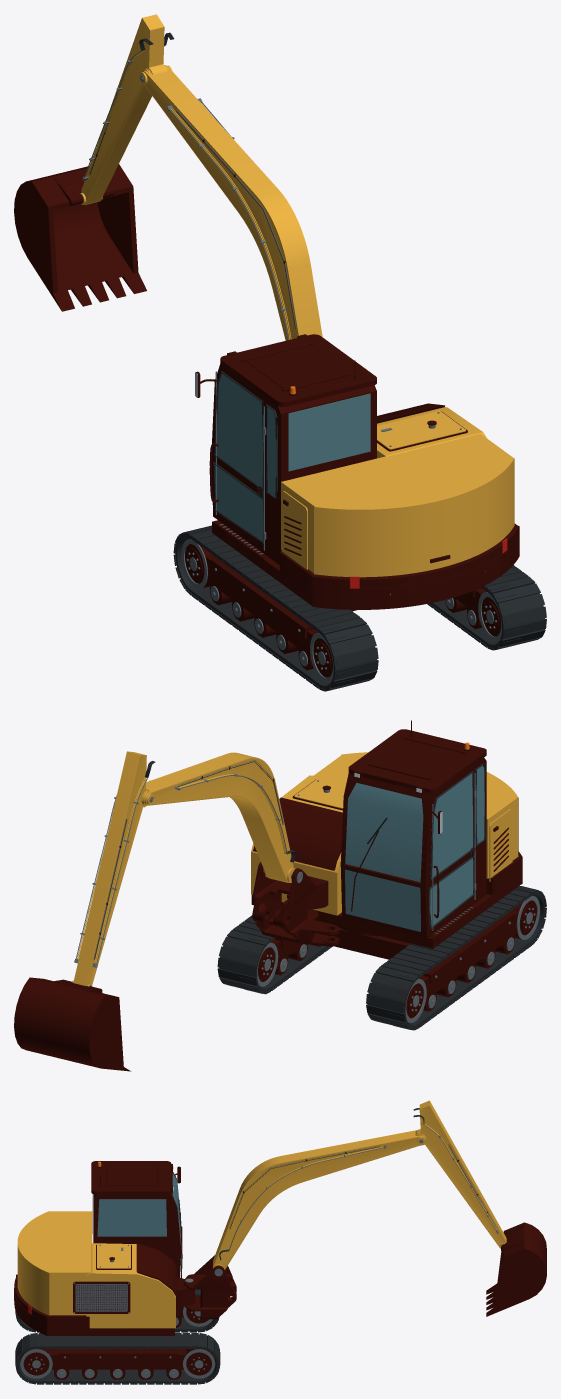
File: SY80U_excavator_godot.glb
3 renders of one model, top to bottom at view 1: azimuth 30°, elevation 25°; view 2: azimuth 150°, elevation 25°; view 3: azimuth 270°, elevation 25°, orthographic. The views are drawn at different scales.
Parts seen in each view (by area): view 1: upper_structure, undercarriage, bucket, boom, arm; view 2: upper_structure, undercarriage, bucket, boom, arm, swing_bracket, swing_pedestal; view 3: upper_structure, undercarriage, boom, bucket, arm, swing_bracket, swing_pedestal.
Part boxes in pixels (x1=…): upper_structure: x1=195, y1=334, x2=519, y2=609; undercarriage: x1=173, y1=525, x2=546, y2=691; bucket: x1=14, y1=164, x2=146, y2=311; boom: x1=139, y1=65, x2=322, y2=340; arm: x1=80, y1=14, x2=174, y2=204; upper_structure: x1=251, y1=720, x2=522, y2=948; undercarriage: x1=217, y1=886, x2=546, y2=1030; bucket: x1=14, y1=977, x2=131, y2=1071; boom: x1=144, y1=752, x2=295, y2=882; arm: x1=72, y1=751, x2=155, y2=986; swing_bracket: x1=252, y1=862, x2=339, y2=946; swing_pedestal: x1=307, y1=876, x2=328, y2=909; upper_structure: x1=14, y1=1161, x2=182, y2=1335; undercarriage: x1=15, y1=1289, x2=220, y2=1384; boom: x1=213, y1=1130, x2=425, y2=1269; bucket: x1=486, y1=1222, x2=546, y2=1316; arm: x1=413, y1=1100, x2=506, y2=1248; swing_bracket: x1=183, y1=1255, x2=236, y2=1319; swing_pedestal: x1=176, y1=1278, x2=195, y2=1307.
Size of the model in its own units: 2.3 by 4.09 by 7.59.
